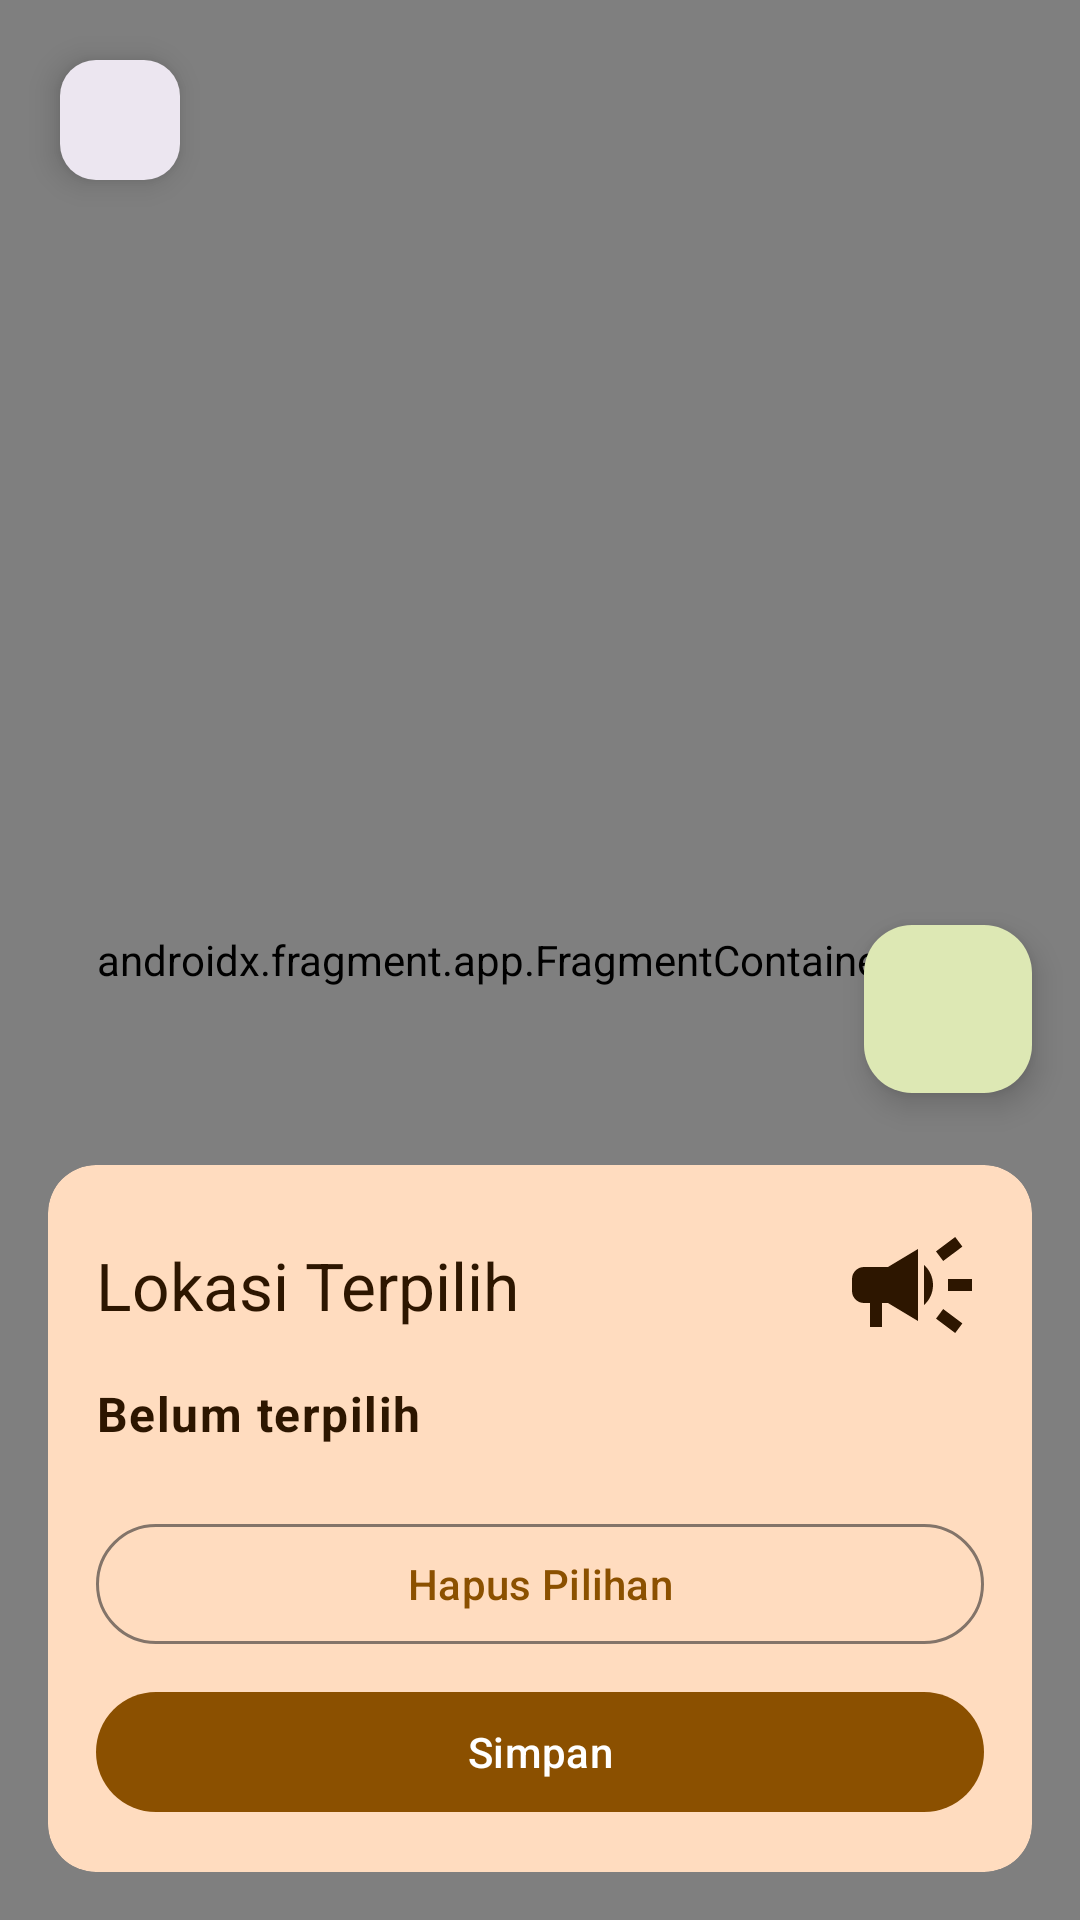

Icon click points for this 1080*1920 phone screenshot, format [x,y]:
campaign: [912,1285]
